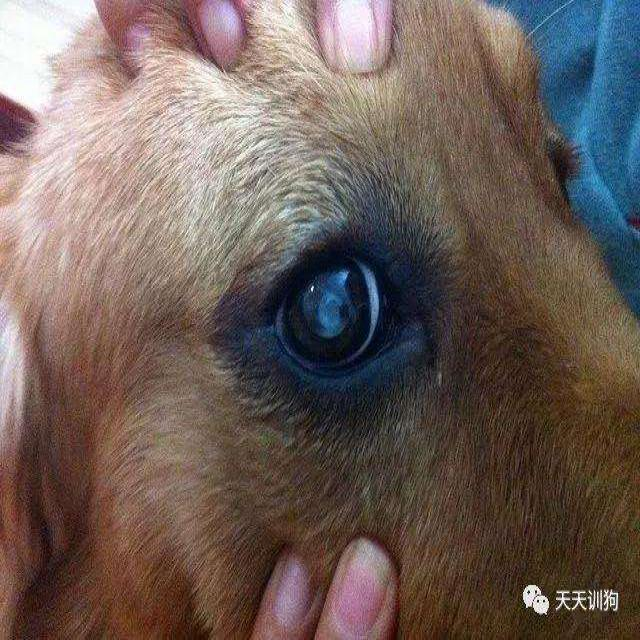eye: (262, 226, 425, 391)
